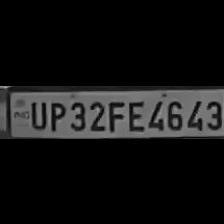2: (87, 97, 105, 130)
3: (68, 97, 86, 130), (204, 97, 222, 129)
4: (145, 96, 163, 130), (185, 97, 203, 129)
6: (164, 96, 182, 130)
E: (125, 97, 143, 131)
F: (106, 97, 122, 131)
P: (47, 98, 65, 130)
U: (27, 97, 45, 128)
